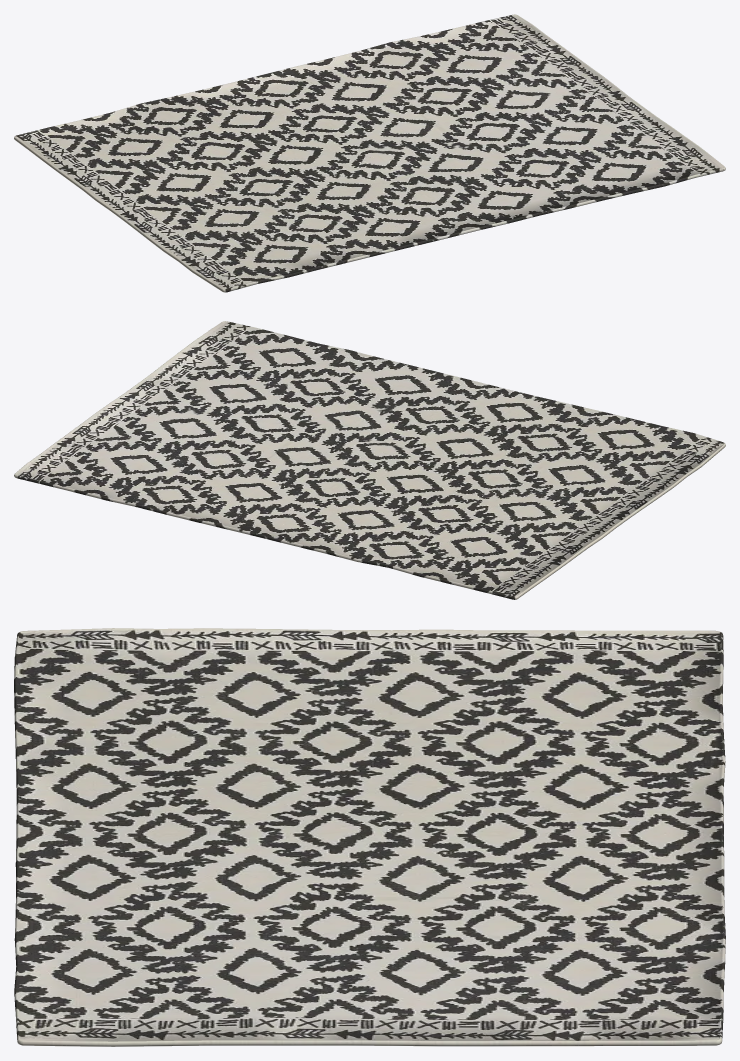
File: B0732KDJ48.glb
3 renders of one model, top to bottom at view 1: azimuth 30°, elevation 25°; view 2: azimuth 150°, elevation 25°; view 3: azimuth 270°, elevation 25°, orthographic. The views are drawn at different scales.
Parts seen in each view (by area): view 1: RootNode; view 2: RootNode; view 3: RootNode.
Boxes of the visible parts, bbox=[...] form: RootNode: bbox=[14, 14, 725, 292]; RootNode: bbox=[14, 321, 725, 599]; RootNode: bbox=[14, 628, 725, 1046].
Size of the model in its own units: 3.37 by 0.0362 by 2.44.
Materials: 1 (1 with a texture image).
